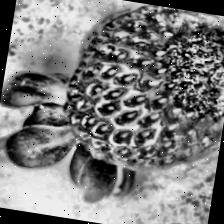Anthracnose Fruit Rot: (120, 3, 224, 147)
